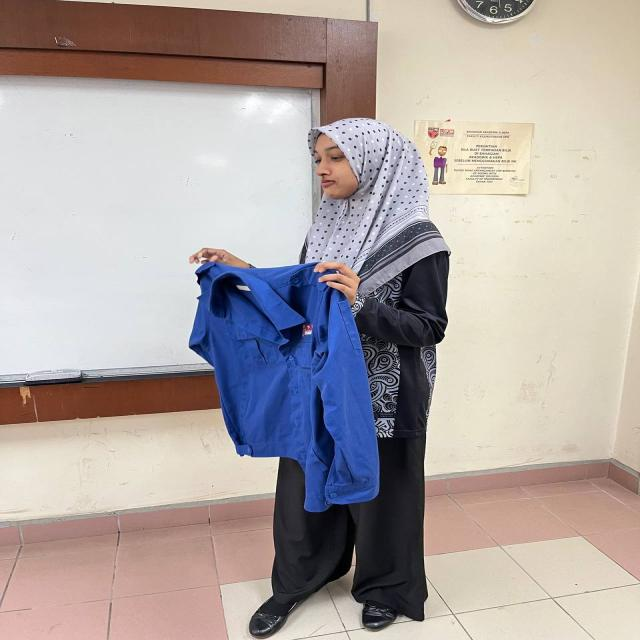person_without_labcoat: (189, 118, 450, 638)
